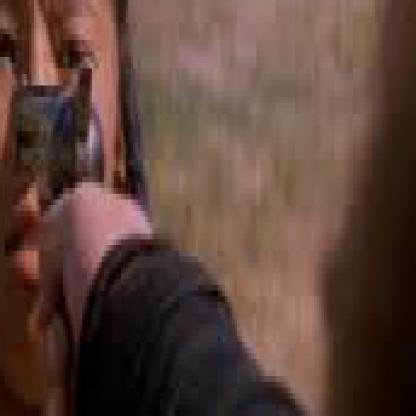gun: (84, 199, 118, 410)
